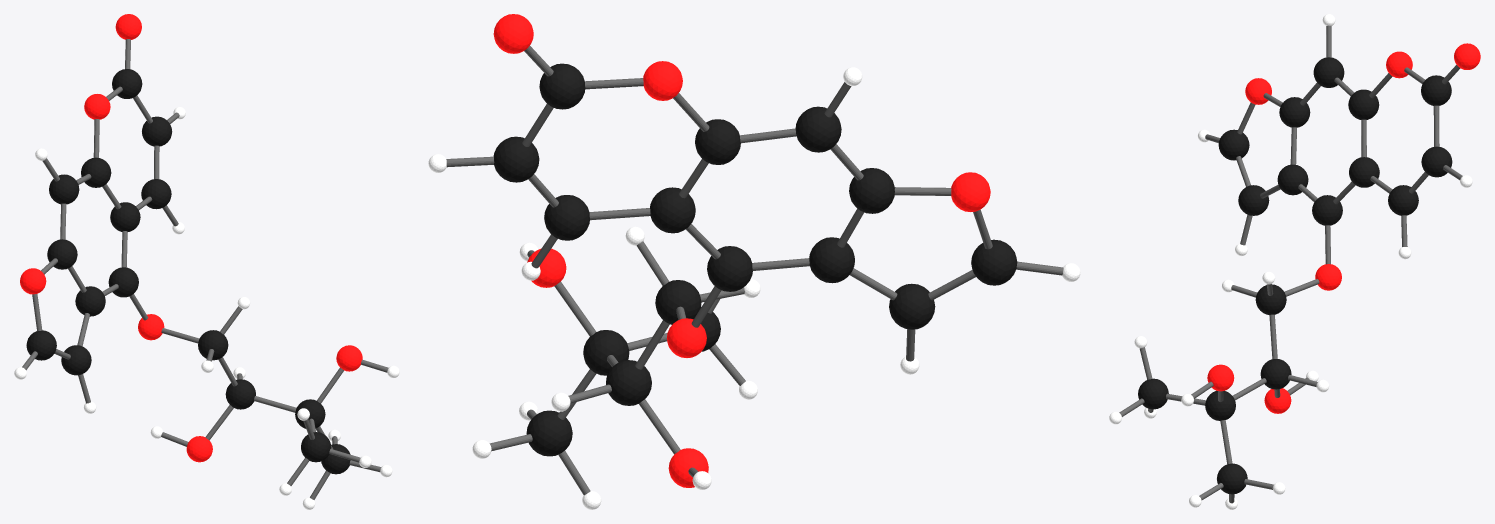
Rendered from molecule.glb.
The picture shows the model from 3 angles, left to right: view 1: azimuth 30°, elevation 25°; view 2: azimuth 150°, elevation 25°; view 3: azimuth 270°, elevation 25°; orthographic projection. The views are drawn at different scales.
Visible parts, largest first — view 1: geometry_14, geometry_21, geometry_9, geometry_13, geometry_19, geometry_4, geometry_11, geometry_8, geometry_10, geometry_0, geometry_20, geometry_15 (+10 smaller); view 2: geometry_9, geometry_20, geometry_8, geometry_13, geometry_10, geometry_21, geometry_14, geometry_17, geometry_19, geometry_15, geometry_11, geometry_2 (+9 smaller); view 3: geometry_13, geometry_8, geometry_15, geometry_17, geometry_11, geometry_20, geometry_0, geometry_14, geometry_4, geometry_19, geometry_9, geometry_2 (+10 smaller).
Boxes of the visible parts, x1,y1,x2,y2 form: geometry_14: (49,174,79,204); geometry_21: (110,202,140,231); geometry_9: (75,286,105,316); geometry_13: (47,239,77,269); geometry_19: (142,116,172,146); geometry_4: (225,379,255,409); geometry_11: (26,330,56,360); geometry_8: (108,267,138,297); geometry_10: (61,345,91,375); geometry_0: (301,432,331,462); geometry_20: (141,179,171,209); geometry_15: (81,157,111,187); geometry_9: (809,237,854,283); geometry_20: (544,195,589,240); geometry_8: (707,246,752,291); geometry_13: (849,168,894,213); geometry_10: (889,283,935,329); geometry_21: (650,187,695,233); geometry_14: (795,106,841,152); geometry_17: (539,63,585,109); geometry_19: (493,136,539,182); geometry_15: (695,119,740,164); geometry_11: (971,239,1017,285); geometry_2: (526,410,572,456); geometry_13: (1279,97,1310,127); geometry_8: (1312,195,1342,225); geometry_15: (1348,89,1379,119); geometry_17: (1421,75,1451,105); geometry_11: (1218,129,1249,160); geometry_20: (1388,185,1418,215); geometry_0: (1138,378,1168,409); geometry_14: (1313,57,1344,87); geometry_4: (1260,359,1291,389); geometry_19: (1421,146,1452,177); geometry_9: (1277,164,1308,195); geometry_2: (1217,463,1247,494).
Size of the model in its own units: 0.2411 by 0.2609 by 0.2029.
